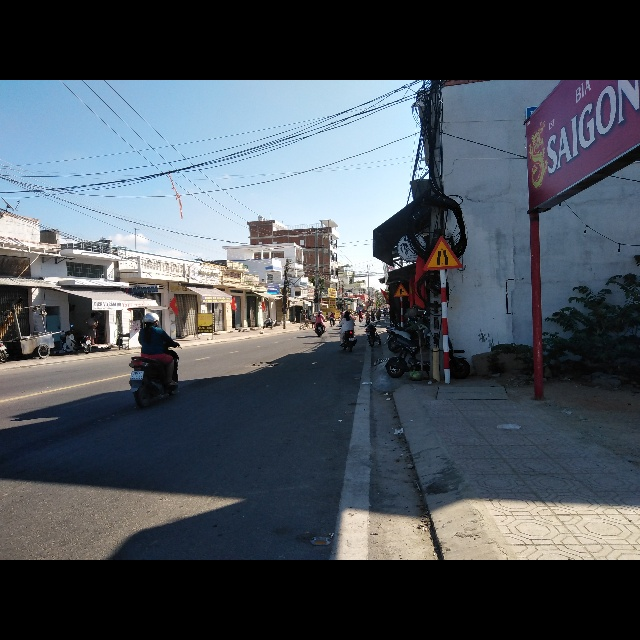Đường bị hẹp cả hai bên: (422, 237, 463, 270)
